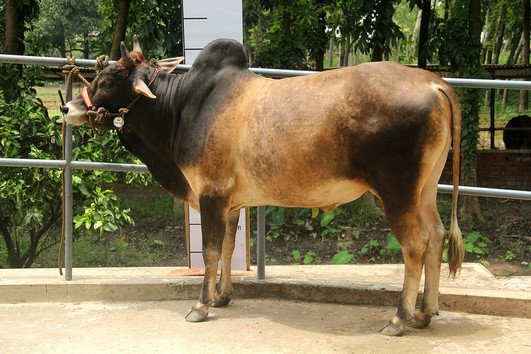cow: (57, 31, 472, 333)
